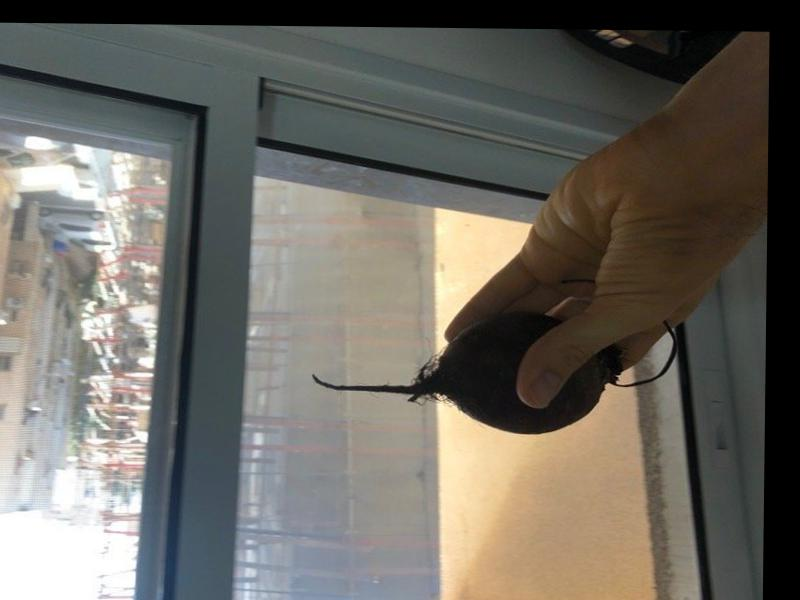Beet: (310, 274, 677, 436)
